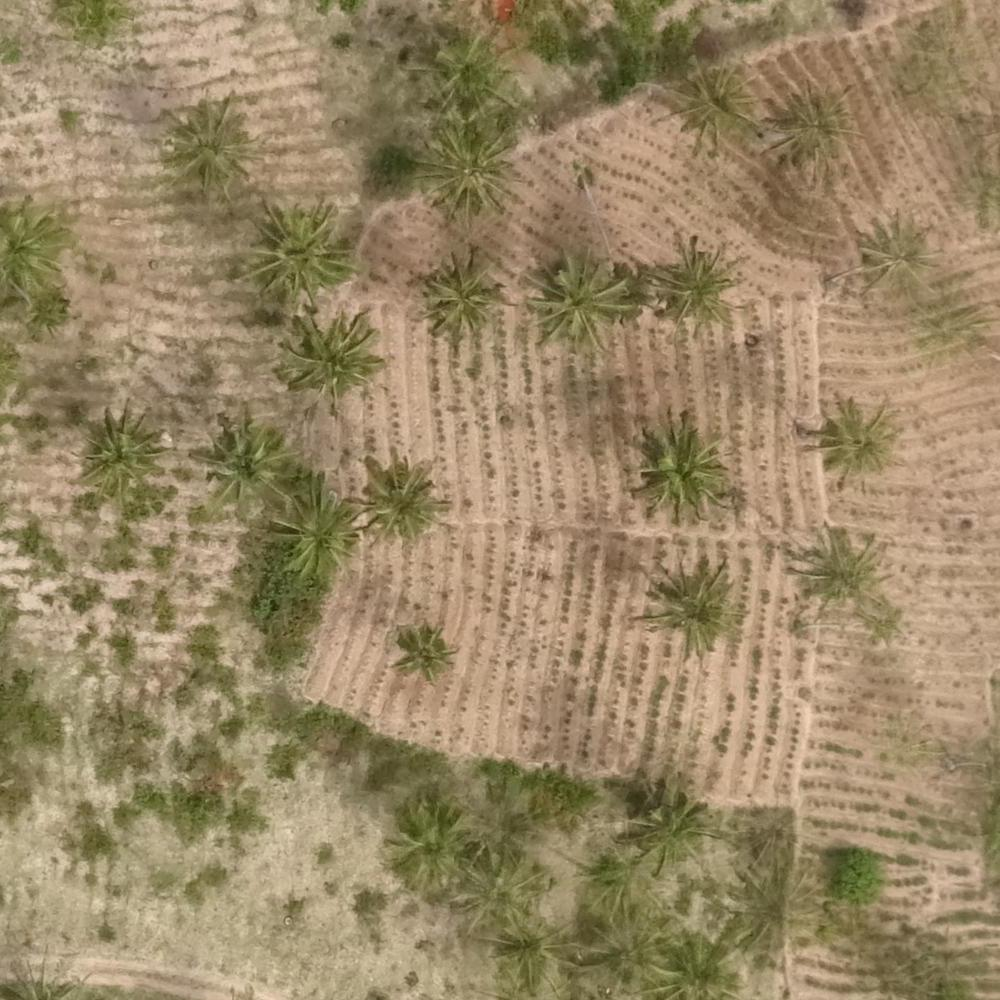Palm: (523, 243, 637, 356), (631, 417, 736, 516), (190, 412, 288, 515), (414, 35, 518, 126), (644, 552, 741, 649), (416, 127, 520, 215), (249, 205, 345, 298), (625, 783, 720, 872), (76, 402, 166, 495), (666, 57, 755, 150), (270, 483, 357, 577), (645, 238, 736, 327), (286, 313, 381, 398), (766, 88, 857, 175), (804, 393, 894, 480), (162, 107, 258, 188), (420, 257, 504, 346), (385, 800, 470, 885), (354, 458, 441, 540), (793, 527, 878, 610), (382, 613, 453, 681)
